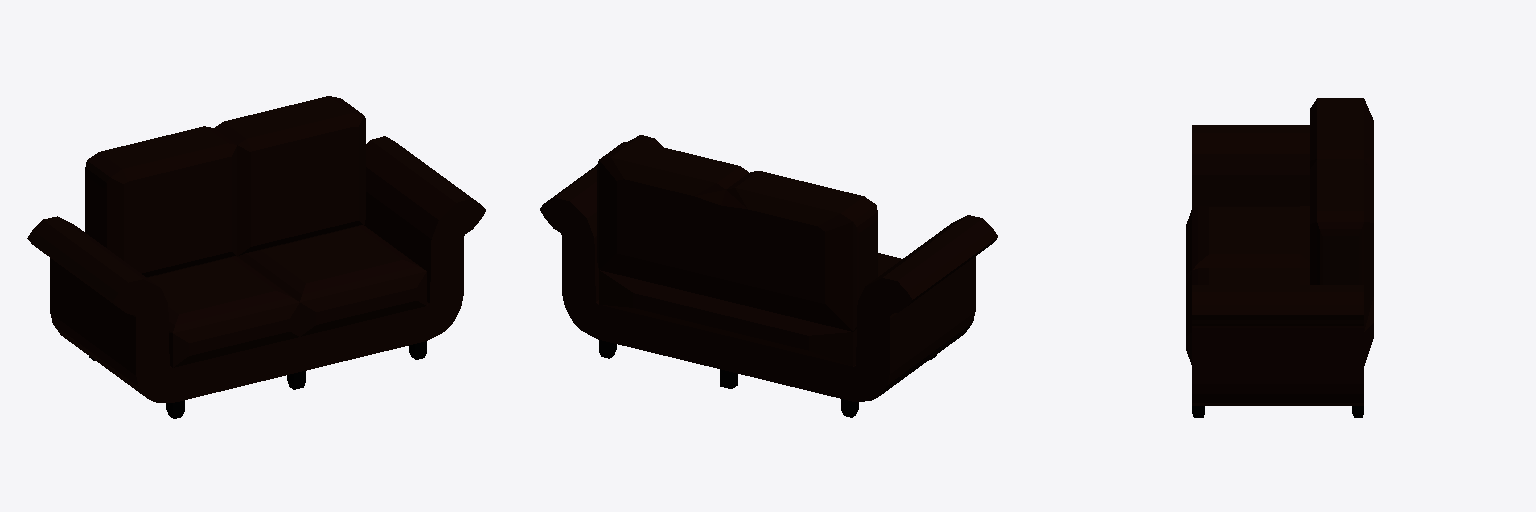
The model's file is Couch.obj.
3 renders of one model, left to right at view 1: azimuth 30°, elevation 25°; view 2: azimuth 150°, elevation 25°; view 3: azimuth 270°, elevation 25°, orthographic.
Visible parts, largest first — view 1: Couch_Cube; view 2: Couch_Cube; view 3: Couch_Cube.
Boxes of the visible parts, x1,y1,x2,y2 form: Couch_Cube: [27, 96, 485, 418]; Couch_Cube: [540, 135, 997, 417]; Couch_Cube: [1186, 98, 1373, 417].
Size of the model in its own units: 6.77 by 3.51 by 2.95.